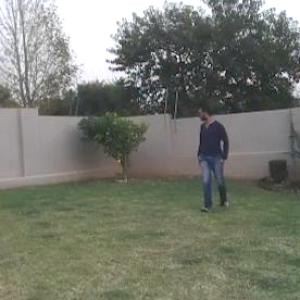follow: (189, 95, 236, 230)
